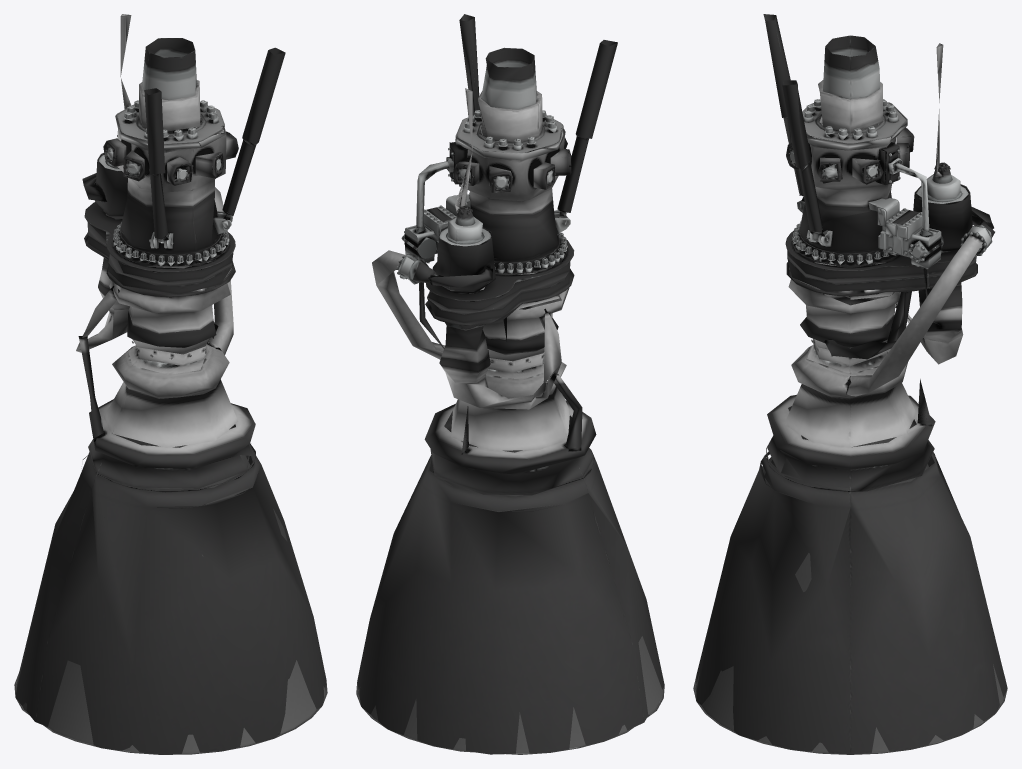
File: raptor.glb
The picture shows the model from 3 angles, left to right: view 1: azimuth 30°, elevation 25°; view 2: azimuth 150°, elevation 25°; view 3: azimuth 270°, elevation 25°; orthographic projection.
Parts seen in each view (by area): view 1: Object_14, Object_15; view 2: Object_14, Object_15; view 3: Object_14, Object_15.
Part boxes in pixels (x1,y1,x2,y2): Object_14: (15, 14, 326, 754); Object_15: (14, 38, 327, 754); Object_14: (357, 14, 664, 754); Object_15: (356, 40, 664, 754); Object_14: (696, 43, 1007, 754); Object_15: (693, 14, 1007, 754).
Size of the model in its own units: 1.3 by 2.93 by 1.3.
1 material, 1 textured.
